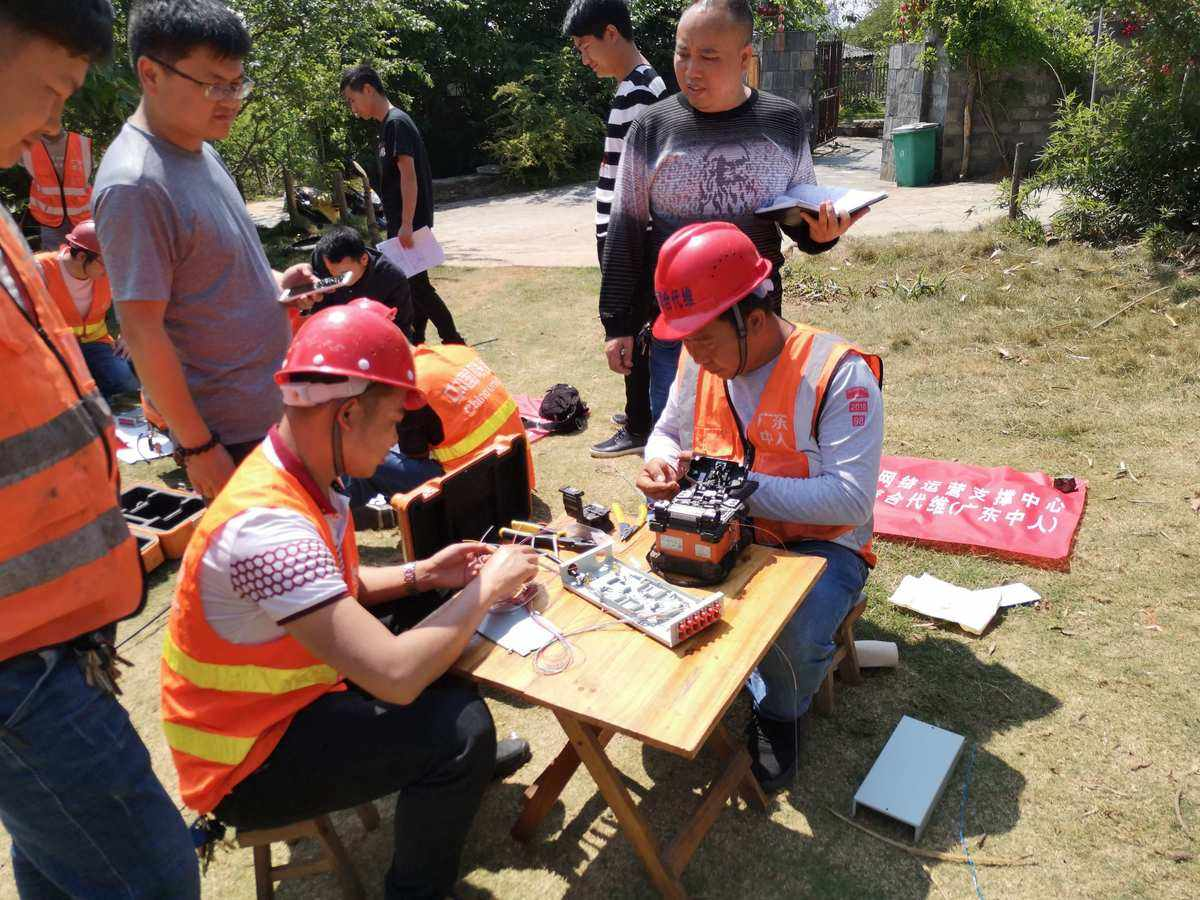head: (1, 2, 119, 172), (127, 1, 253, 147), (672, 1, 758, 117), (562, 1, 636, 77), (314, 224, 371, 290), (338, 62, 389, 118)
ordinary_clothes: (92, 122, 296, 444), (634, 92, 807, 310), (593, 63, 671, 235), (381, 104, 432, 230)
person: (161, 303, 531, 900), (1, 2, 204, 900), (634, 218, 890, 792), (598, 2, 873, 437), (85, 3, 297, 507), (561, 1, 670, 461), (337, 60, 467, 347), (32, 219, 142, 403)
reflective_vest: (146, 437, 365, 812), (1, 205, 146, 667), (688, 327, 886, 569), (411, 339, 526, 478), (36, 251, 113, 344), (26, 132, 95, 227)
safety_helmet: (273, 303, 434, 483), (643, 218, 776, 379), (63, 219, 107, 278)
